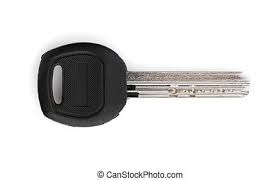key: (33, 42, 250, 134)
